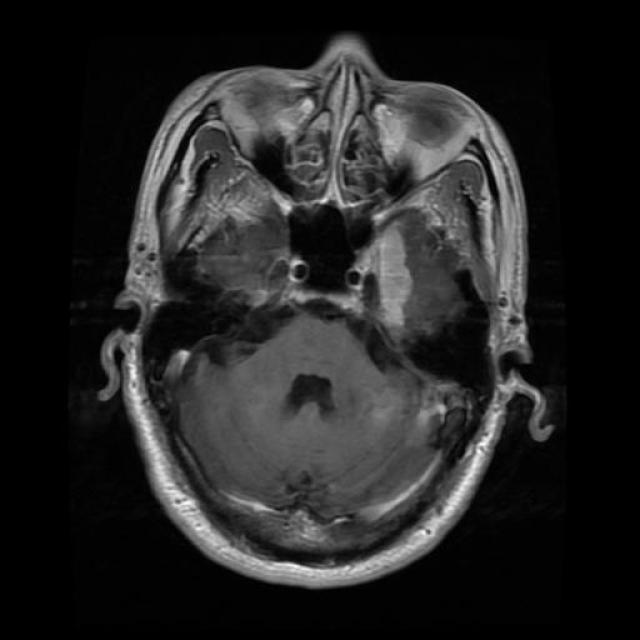meningioma: (364, 225, 412, 330)
